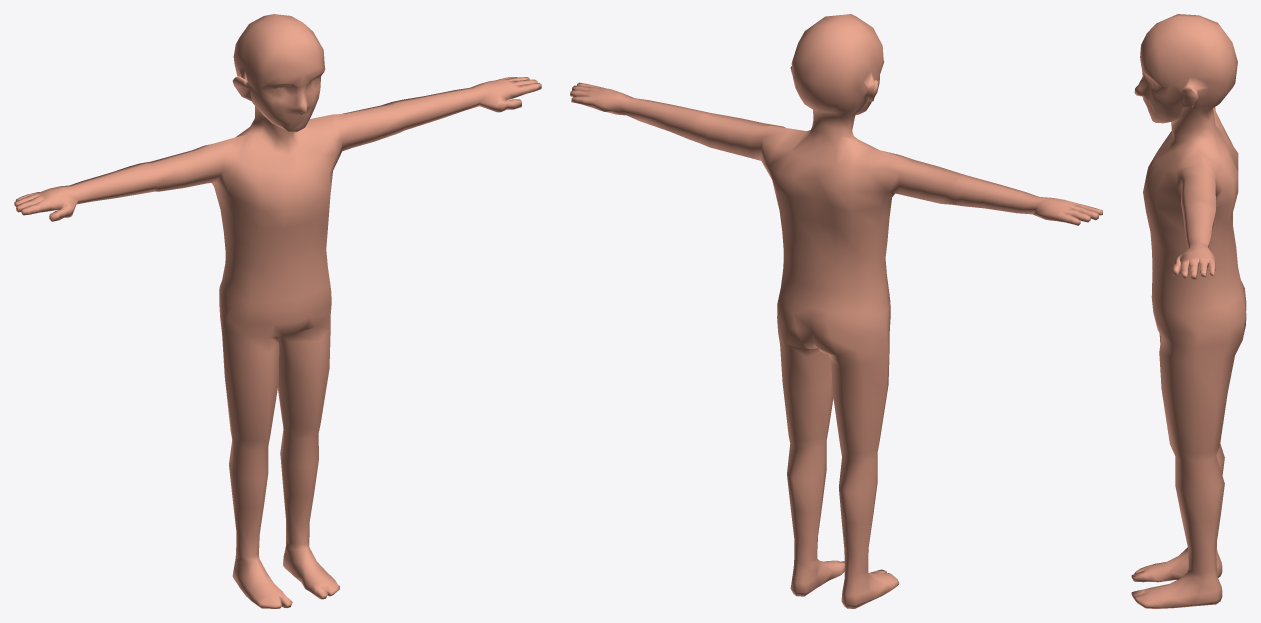
The model's file is male_world.obj.
3 renders of one model, left to right at view 1: azimuth 30°, elevation 25°; view 2: azimuth 150°, elevation 25°; view 3: azimuth 270°, elevation 25°, orthographic.
Parts seen in each view (by area): view 1: StaticMesh; view 2: StaticMesh; view 3: StaticMesh.
Boxes of the visible parts, x1,y1,x2,y2 form: StaticMesh: (14,14,541,608); StaticMesh: (570,14,1102,608); StaticMesh: (1131,14,1246,608).
Bounding box in the file's own units: 117 × 122 × 22.23.
1 material, 1 textured.
